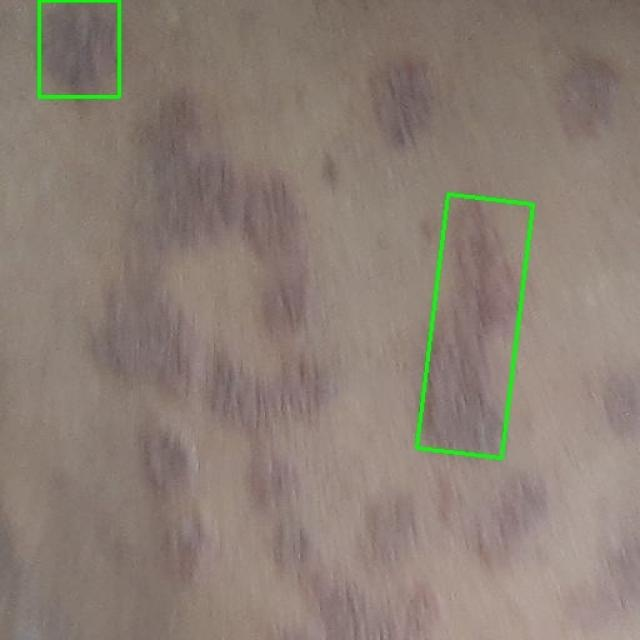Tinea Corporis: (417, 194, 533, 458), (39, 0, 119, 96)
